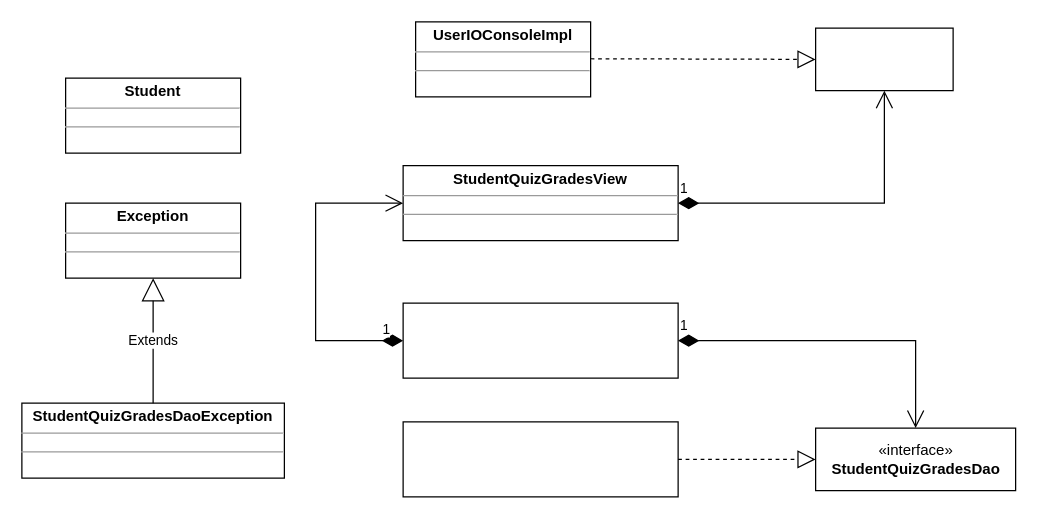
Image size: 1038x519. Some labels were removed from this diagram. The shapes that lost their labels are listed below. From the top down, each one's box as (x1, y1, x2, y2) in pixels, then its label:
(814, 27, 953, 91): «interface» UserIO
(402, 302, 678, 378): StudentQuizGradesController
(402, 421, 678, 497): StudentQuizGradesDaoFileImpl
